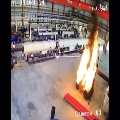fire: (76, 39, 98, 92)
